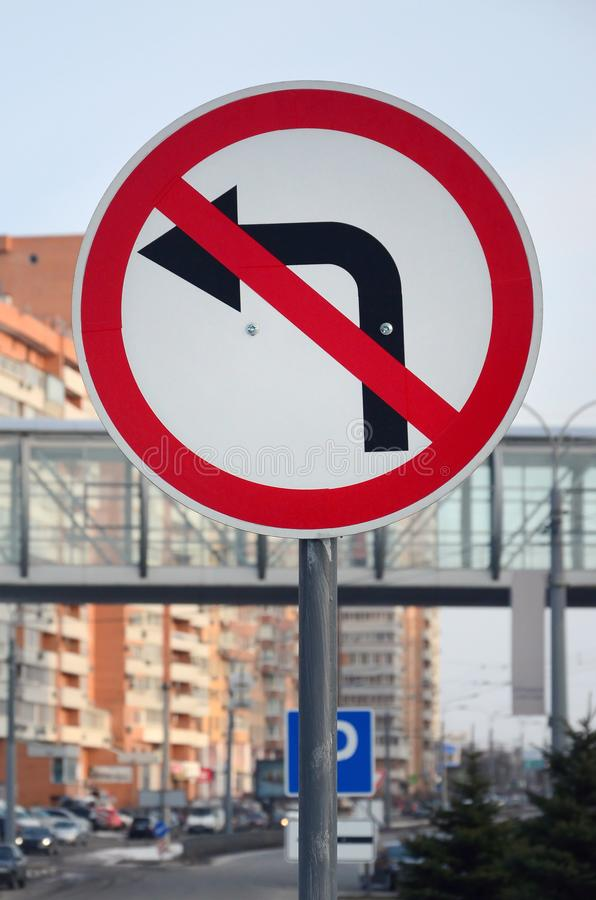sola_girilmez: (66, 79, 541, 543)
